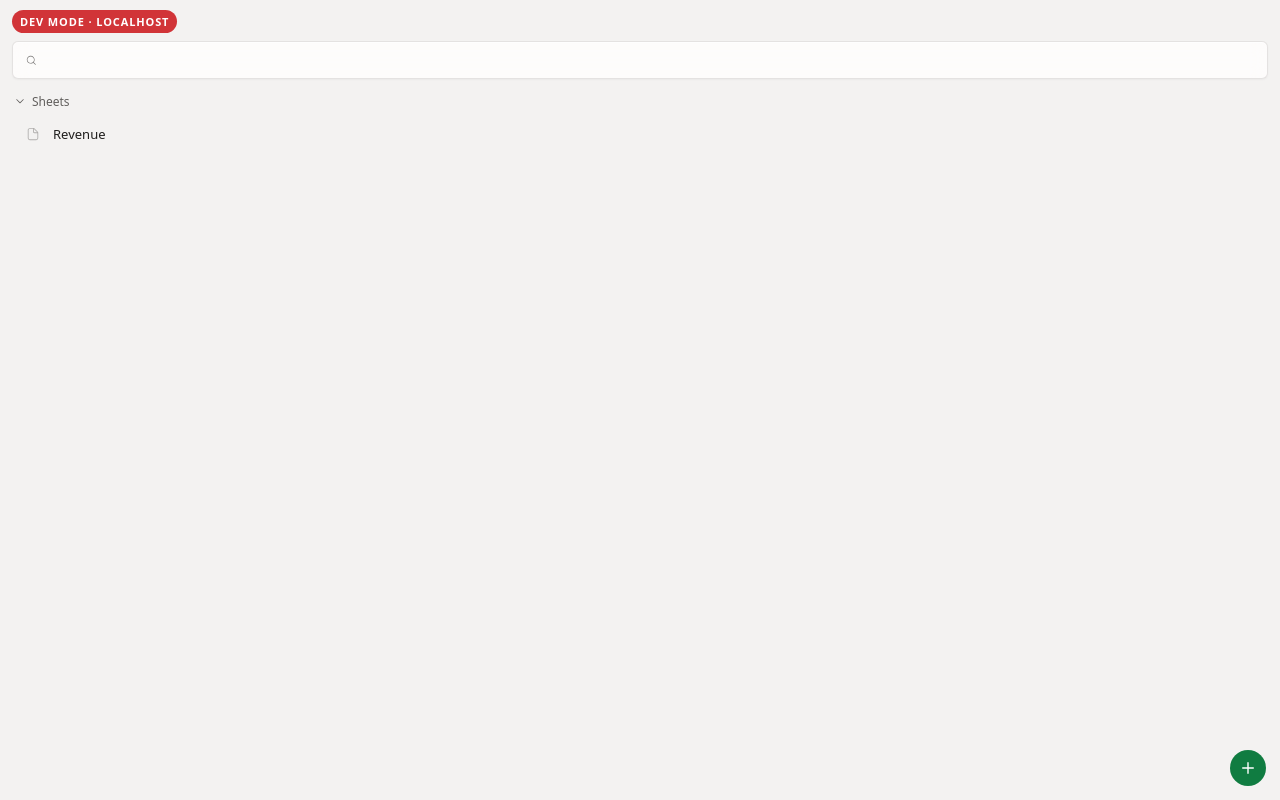
Test: TaskpaneAppContainer › starts inline rename from worksheet context menu
Expected: the element "Revenue" is shown, top-left (12, 114), bottom-right (1268, 154)
Right-click the button "Revenue": (79, 134) top-left (13, 115), bottom-right (1247, 153)
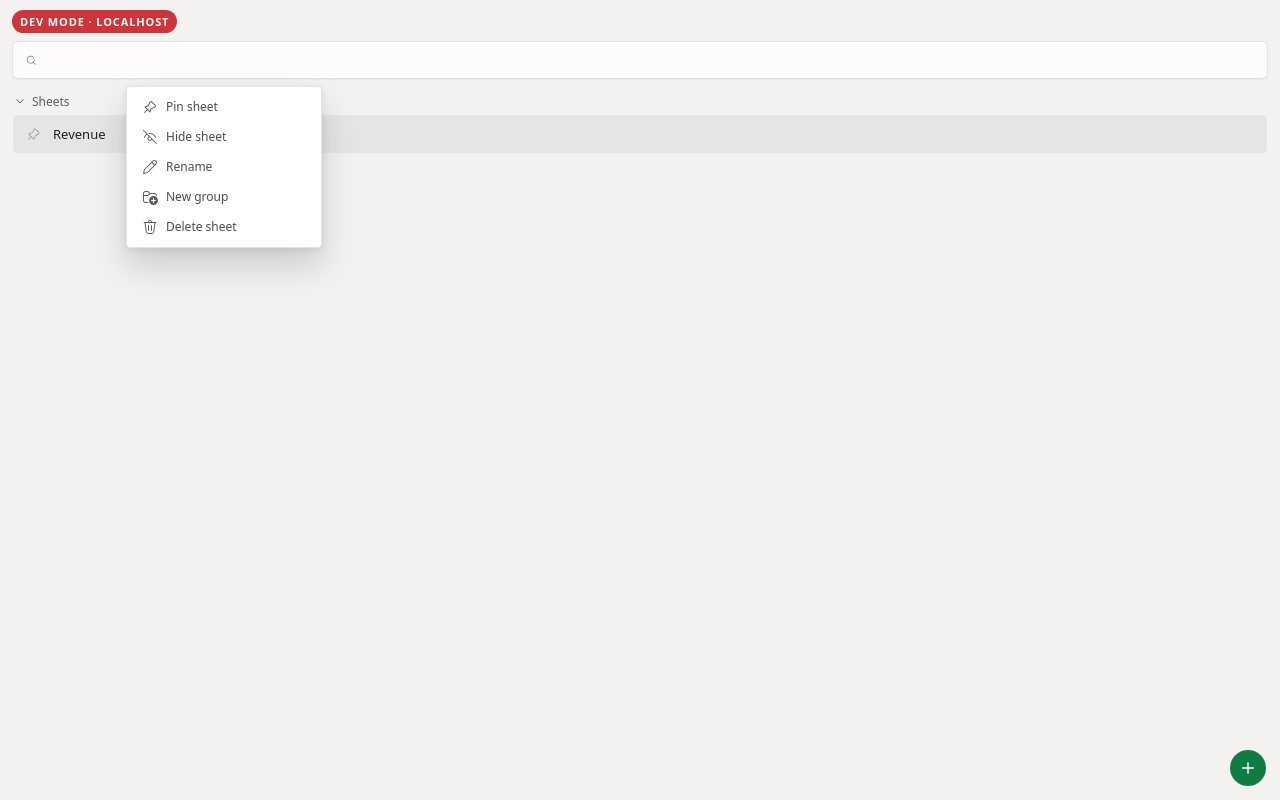
Click the button "Rename": (224, 167) top-left (132, 152), bottom-right (316, 182)
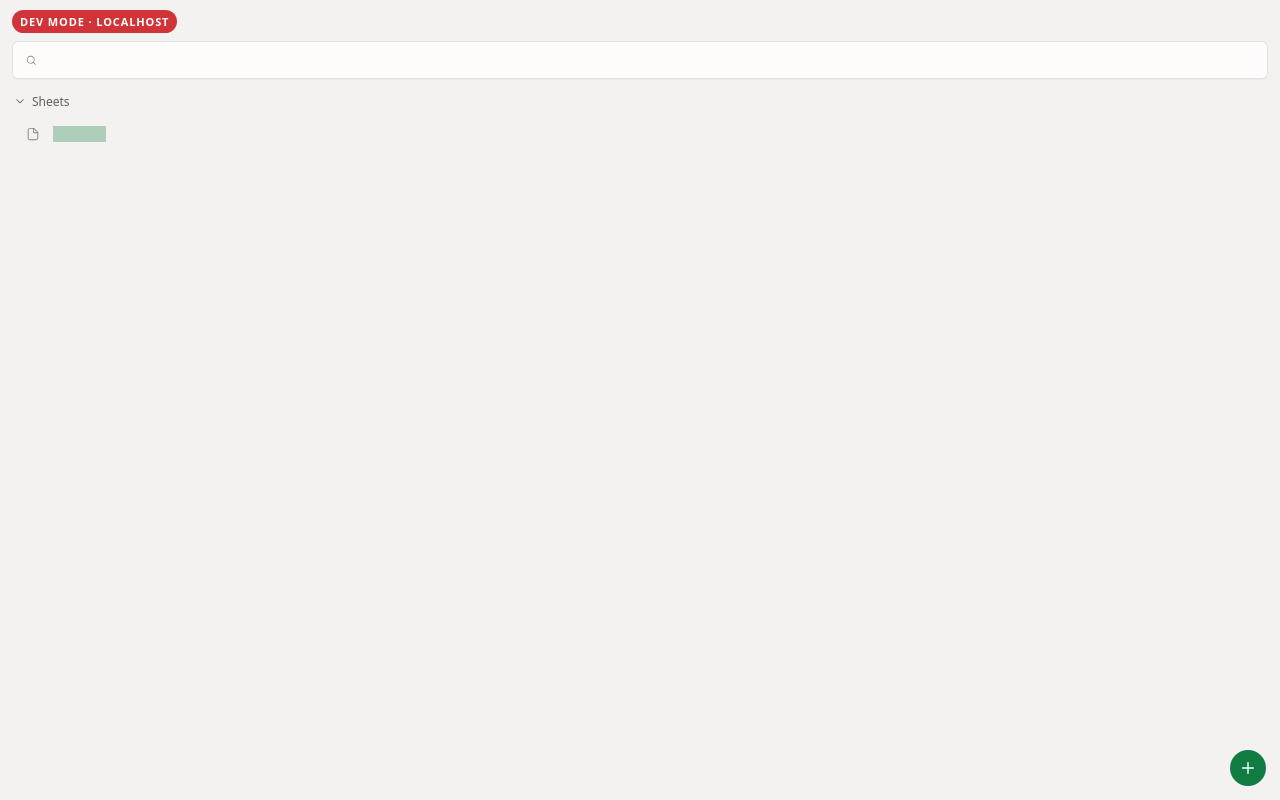
Now the field named "Name" holds "Revenue", box top-left (53, 126), bottom-right (249, 142)
